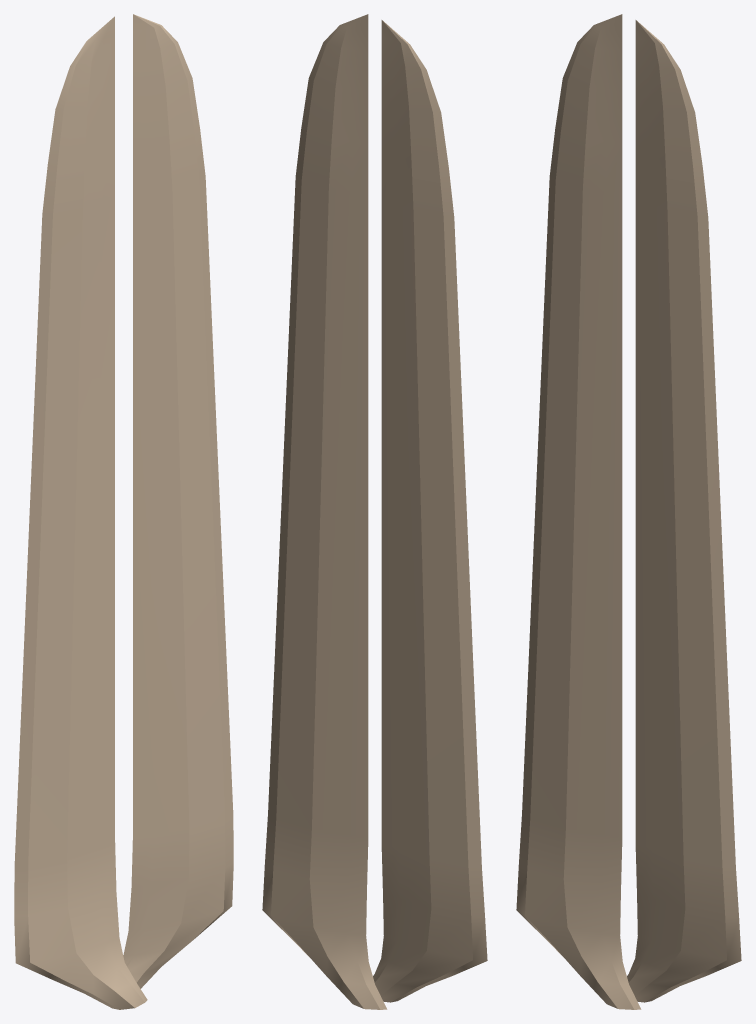
File: Blade.fbx
3 renders of one model, left to right at view 1: azimuth 30°, elevation 25°; view 2: azimuth 150°, elevation 25°; view 3: azimuth 330°, elevation 25°, orthographic.
Visible parts, largest first — view 1: Blade; view 2: Blade; view 3: Blade.
Boxes of the visible parts, bbox=[...] form: Blade: bbox=[14, 14, 233, 1009]; Blade: bbox=[262, 14, 487, 1009]; Blade: bbox=[516, 14, 741, 1009].
Size of the model in its own units: 0.9824 by 4.19 by 0.1692.
